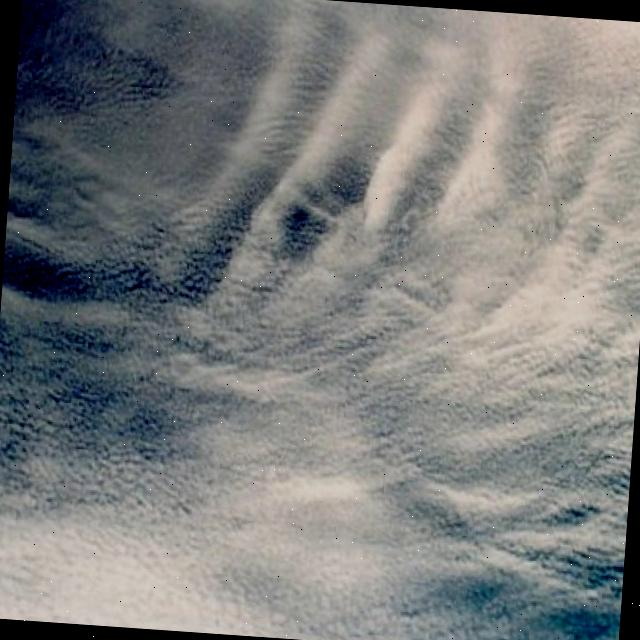Cc: (1, 3, 640, 611)
